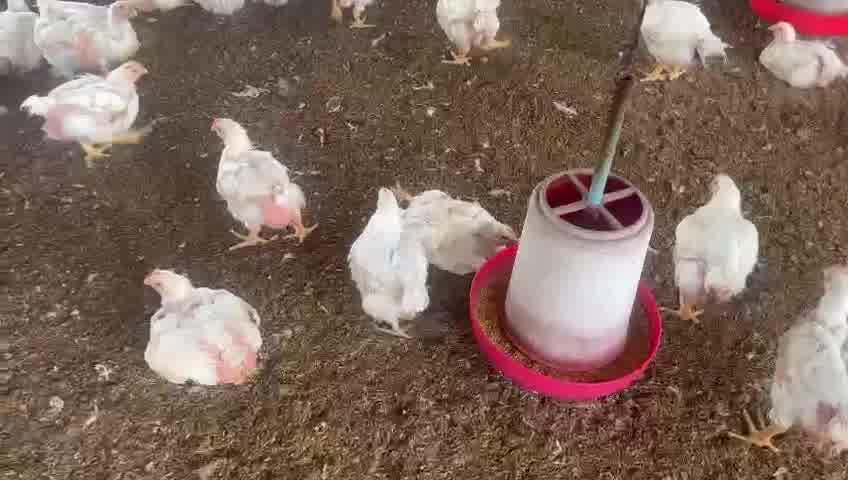AbNormal: (140, 271, 265, 389), (34, 0, 144, 67), (762, 19, 848, 90)
Normal: (668, 171, 759, 322), (210, 119, 314, 250), (32, 60, 151, 164), (349, 187, 428, 336), (645, 3, 722, 86), (430, 0, 508, 66), (330, 0, 377, 29)
